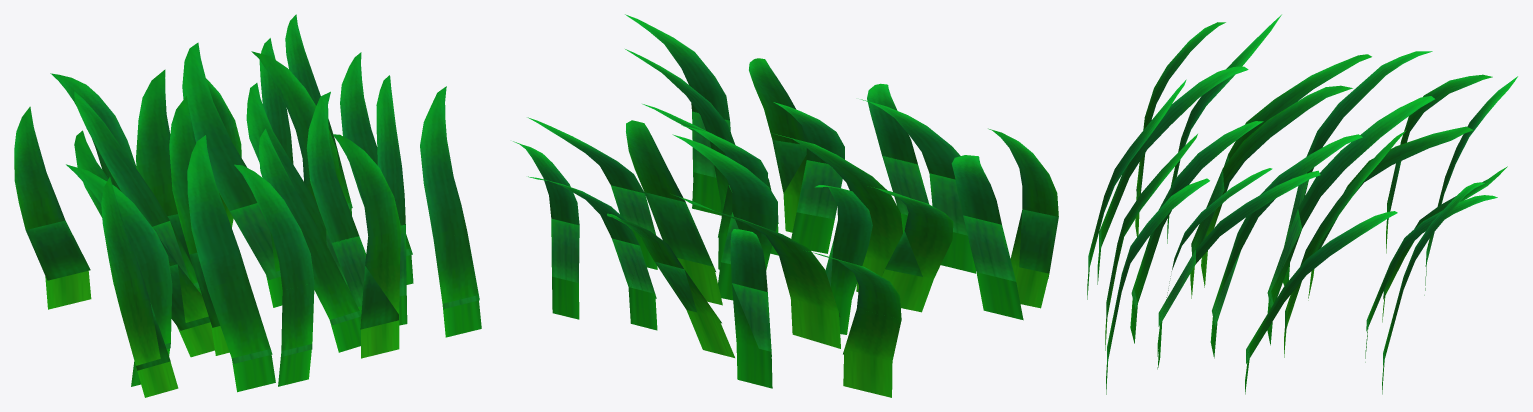
The model's file is Pasto.obj.
3 renders of one model, left to right at view 1: azimuth 30°, elevation 25°; view 2: azimuth 150°, elevation 25°; view 3: azimuth 270°, elevation 25°, orthographic. The views are drawn at different scales.
Parts seen in each view (by area): view 1: base__MI_Lawn_01, cut__MI_Lawn_01; view 2: base__MI_Lawn_01, cut__MI_Lawn_01; view 3: base__MI_Lawn_01, cut__MI_Lawn_01.
Boxes of the visible parts, x1,y1,x2,y2 form: base__MI_Lawn_01: (14,14,481,397); cut__MI_Lawn_01: (25,203,479,370); base__MI_Lawn_01: (513,14,1058,397); cut__MI_Lawn_01: (551,111,1058,356); base__MI_Lawn_01: (1087,14,1517,394); cut__MI_Lawn_01: (1088,142,1443,365).
Size of the model in its own units: 1.72 by 0.9508 by 1.63.
